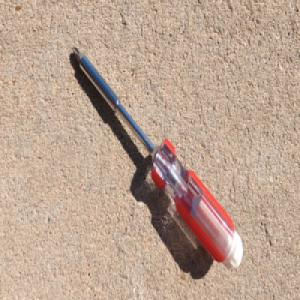Screwdriver: (70, 44, 244, 271)
